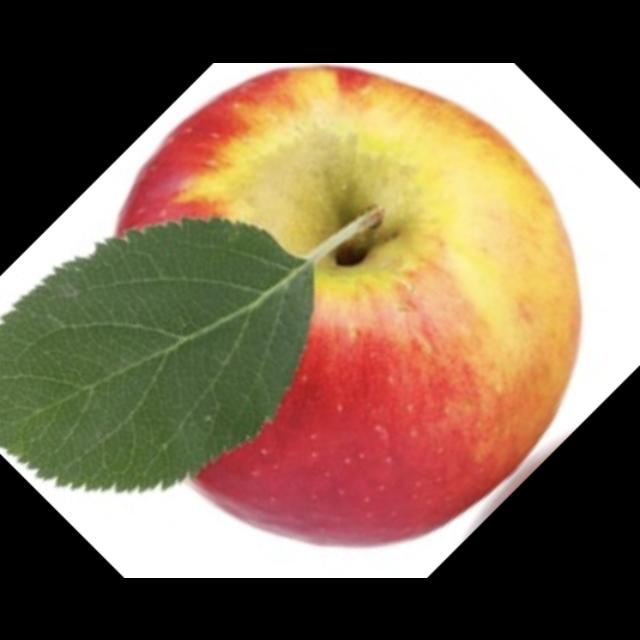Apel Segar: (113, 68, 584, 552)
